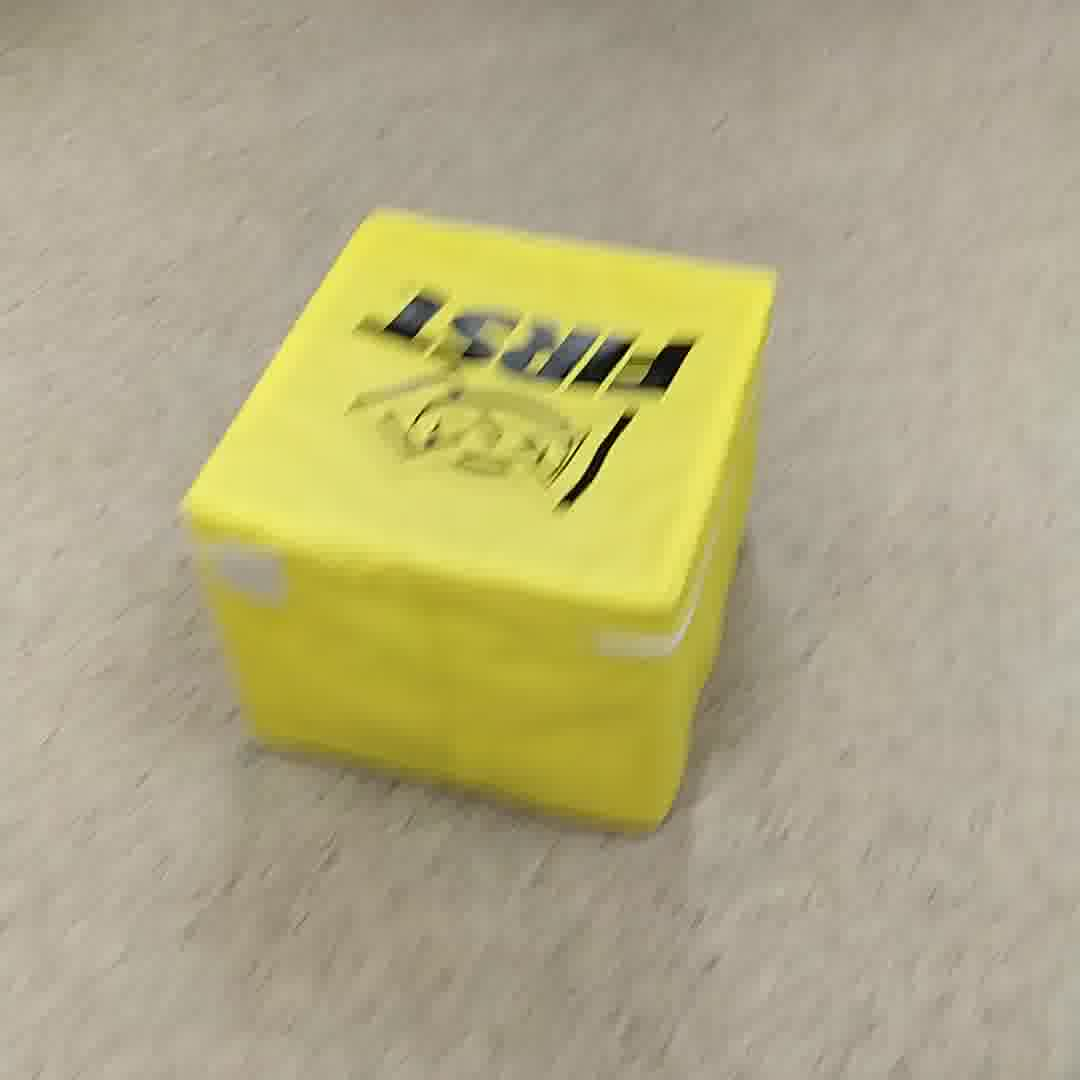box: (164, 196, 788, 845)
